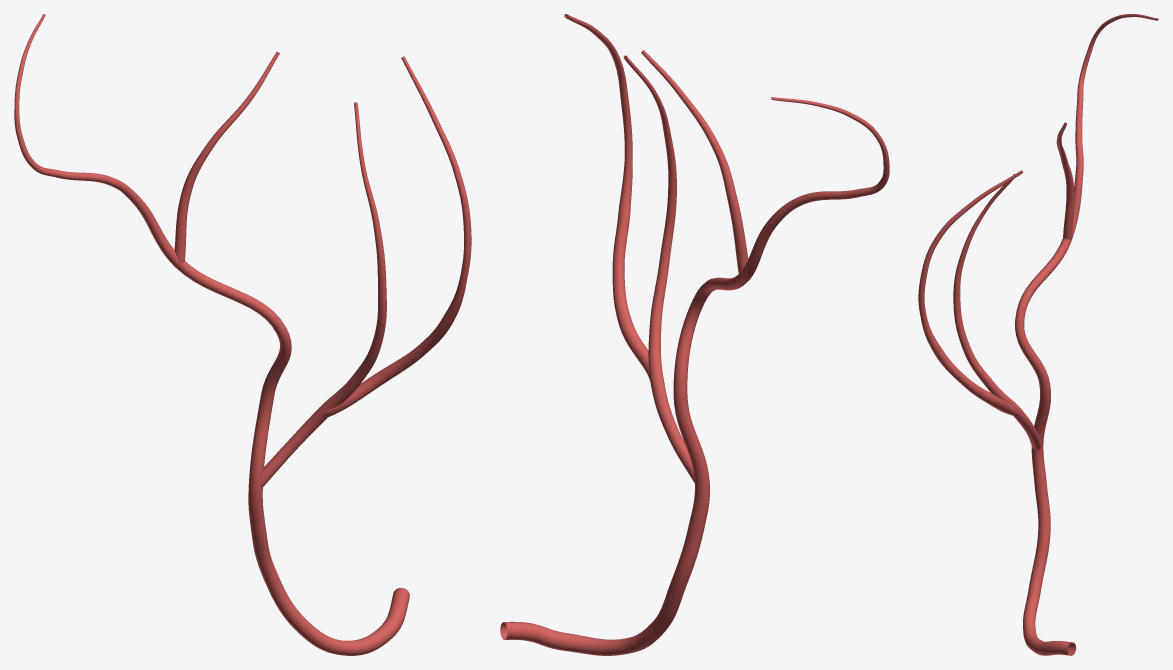
3 renders of one model, left to right at view 1: azimuth 30°, elevation 25°; view 2: azimuth 150°, elevation 25°; view 3: azimuth 270°, elevation 25°, orthographic. The views are drawn at different scales.
Parts seen in each view (by area): view 1: 右侧小脑上动脉; view 2: 右侧小脑上动脉; view 3: 右侧小脑上动脉.
Boxes of the visible parts, box(x1,y1,x2,y2) form: 右侧小脑上动脉: box(14, 14, 471, 655); 右侧小脑上动脉: box(500, 14, 889, 655); 右侧小脑上动脉: box(918, 14, 1158, 655).
Bounding box in the file's own units: 0.0682 × 0.1102 × 0.0454.
